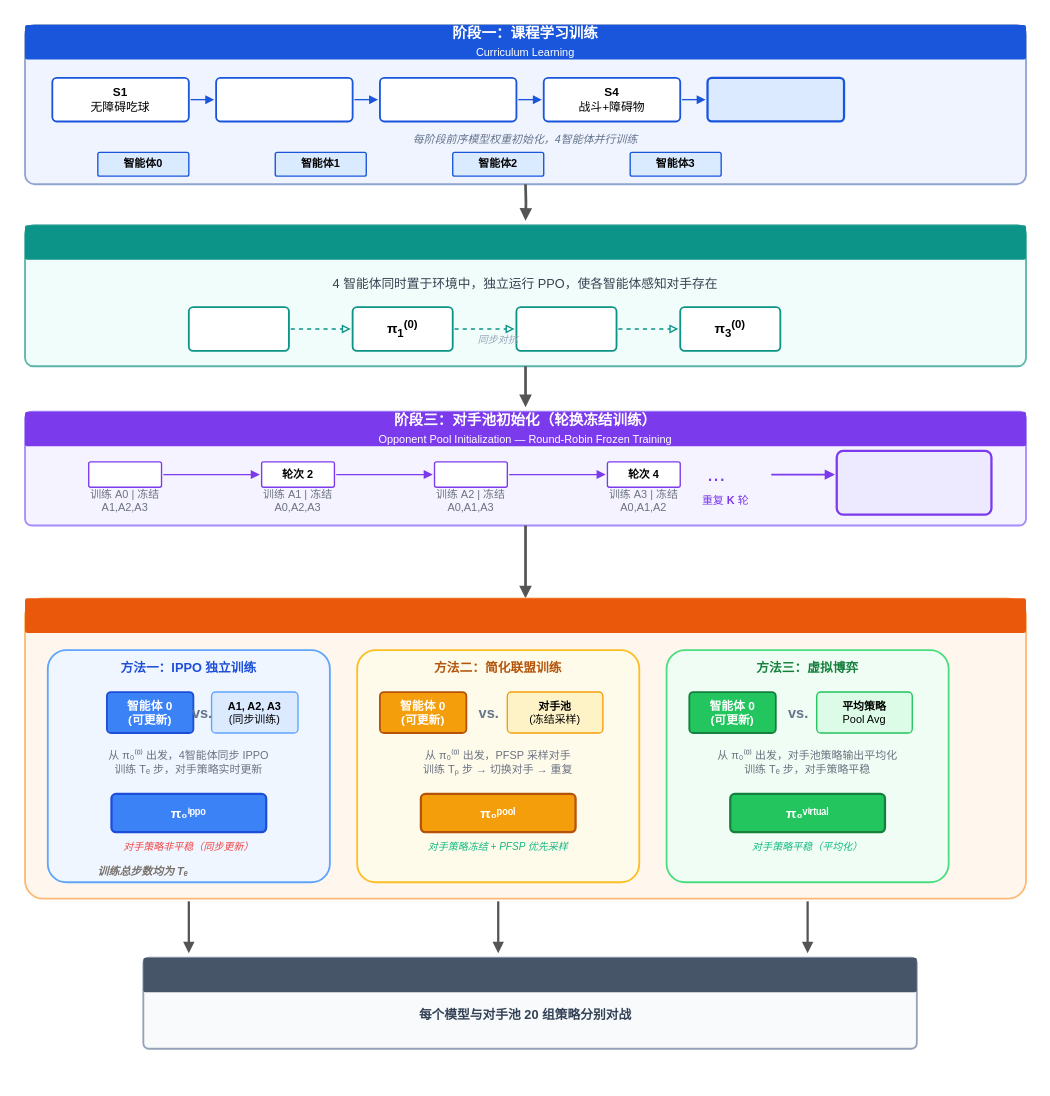
Some shapes in this 1050 by 1096 pixel diagram are drawn without their labels. The box of each missing label's shape, as (x1, y1, x2, y2) in pixels:
Main 完整环境: (706, 76, 845, 122)
S2 有障碍物吃球: (215, 76, 353, 122)
S3 战斗训练: (379, 76, 517, 122)
π 0 (0): (187, 306, 289, 351)
π 2 (0): (515, 306, 617, 351)
对手池 Opponent Pool 每智能体最近20个检查点: (835, 449, 992, 515)
轮次 1: (88, 461, 162, 488)
轮次 3: (433, 461, 508, 488)
阶段二：IPPO 同步初始化训练 IPPO Synchronization: (25, 225, 1026, 259)
阶段五：评估对比 Evaluation — Three Models vs. Opponent Pool: (143, 957, 916, 992)
阶段四：待评估智能体训练（三种方法，均针对智能体0） Training Target Agent — Three Methods: (25, 598, 1026, 632)
